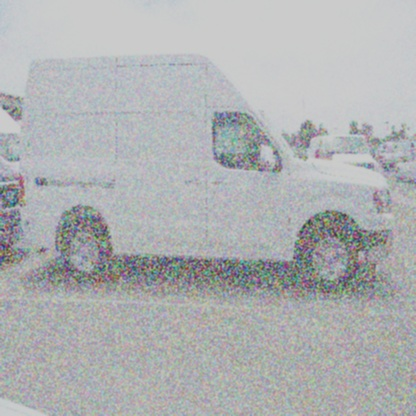Vehicle: (16, 54, 396, 296)
